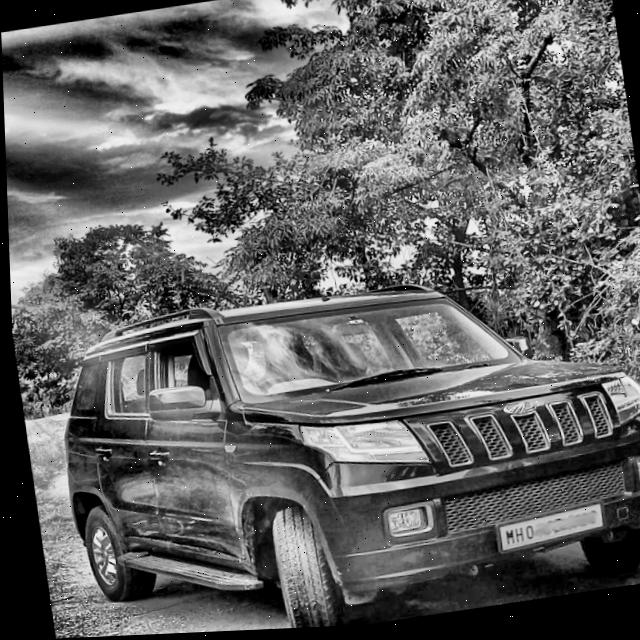light_vehicle: (19, 259, 640, 640)
